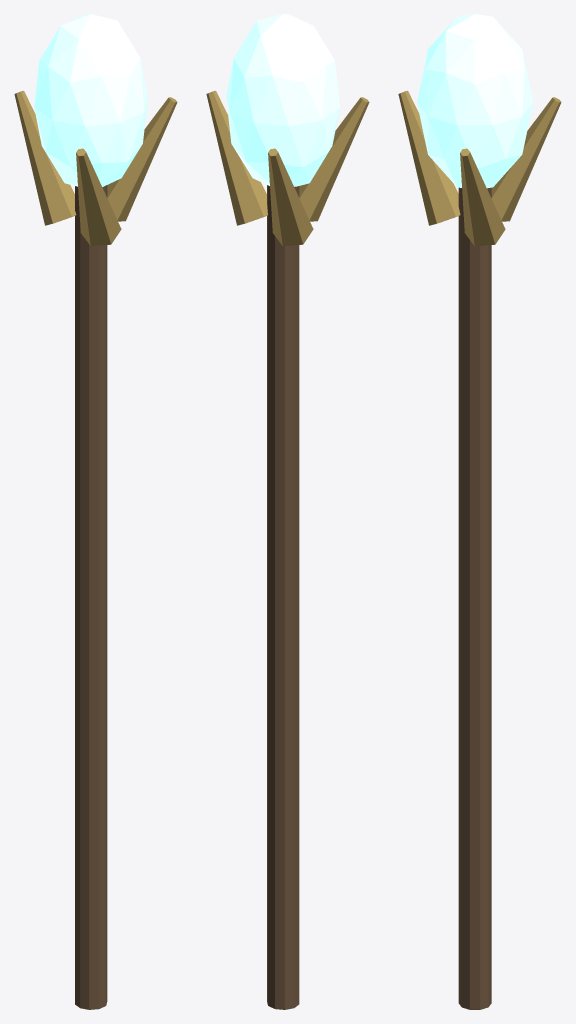
The model's file is holy_staff.glb.
3 views of the same model, side by side, from view 1: azimuth 30°, elevation 25°; view 2: azimuth 150°, elevation 25°; view 3: azimuth 270°, elevation 25° (orthographic).
Parts seen in each view (by area): view 1: StaffShaft, StaffFocus, FocusClaw; view 2: StaffShaft, StaffFocus, FocusClaw; view 3: StaffShaft, StaffFocus, FocusClaw.
Part boxes in pixels (x1,y1,x2,y2): StaffShaft: [75, 185, 107, 1009]; StaffFocus: [34, 14, 147, 186]; FocusClaw: [14, 90, 177, 246]; StaffShaft: [267, 185, 299, 1009]; StaffFocus: [226, 14, 339, 186]; FocusClaw: [206, 90, 369, 246]; StaffShaft: [458, 187, 491, 1009]; StaffFocus: [417, 14, 533, 188]; FocusClaw: [398, 90, 561, 246].
Bounding box in the file's own units: 14.5 × 105 × 15.74.
